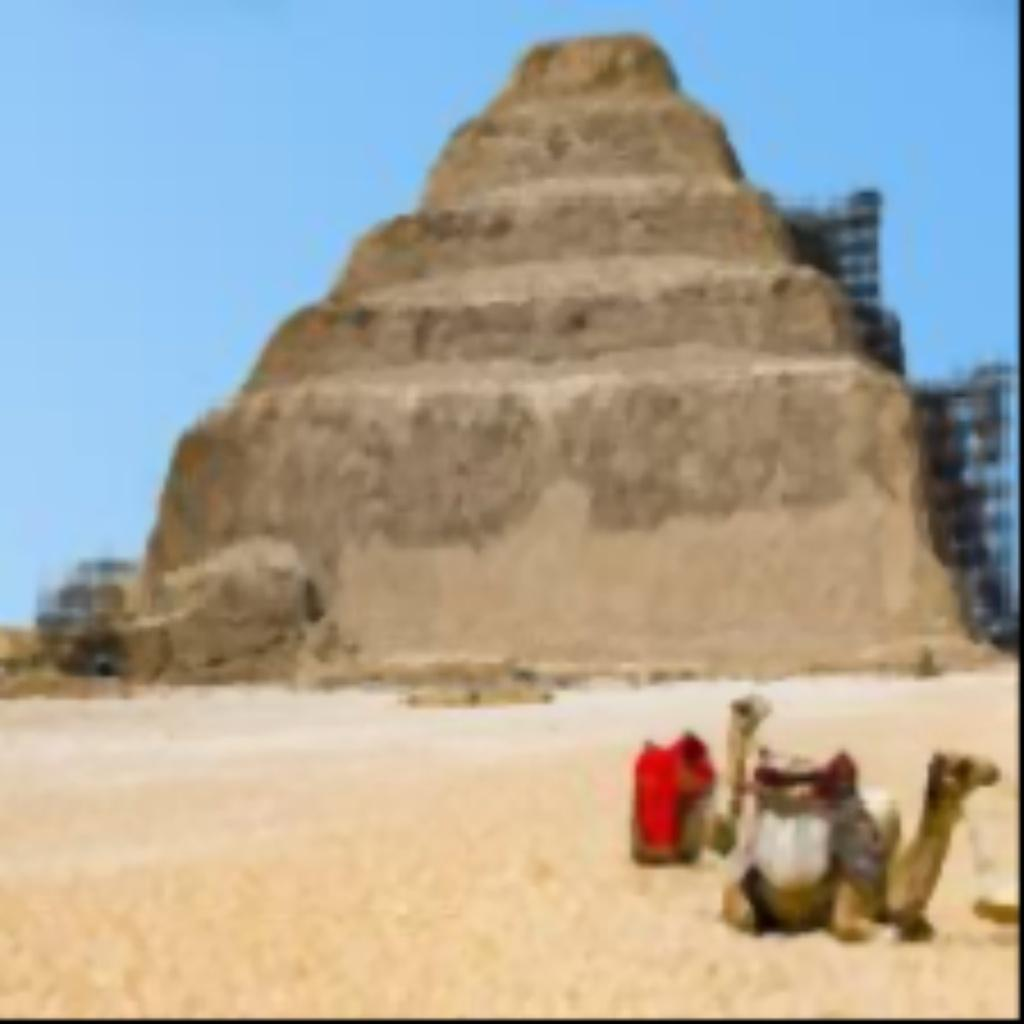Pyramid of Djoser: (92, 23, 1010, 686)
